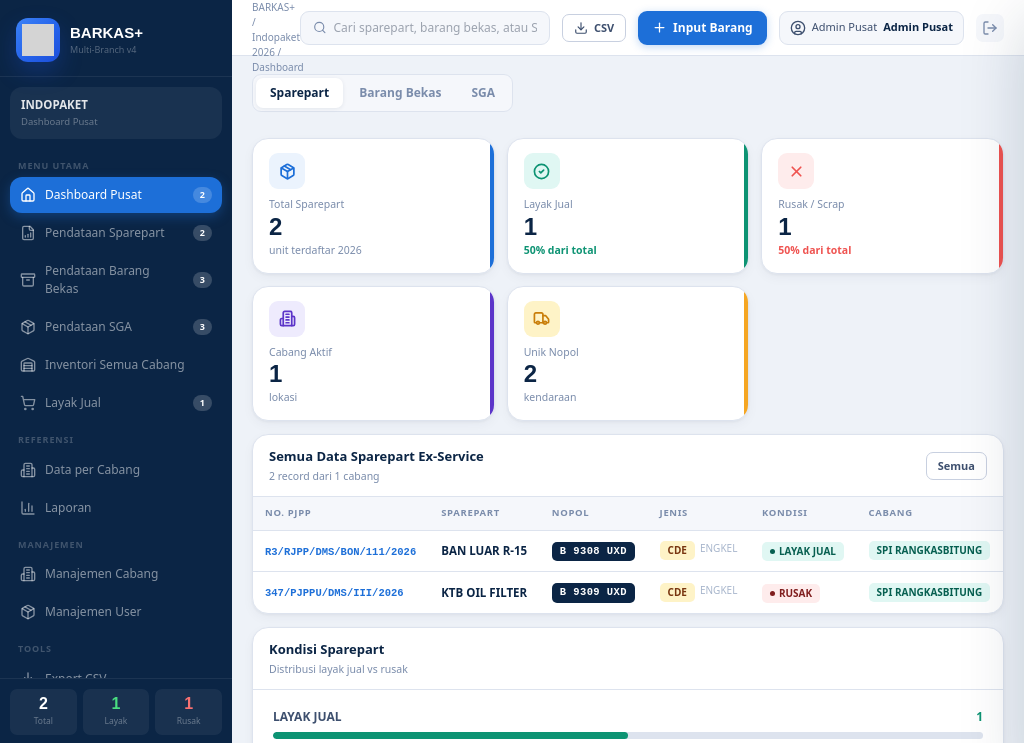
Test: BarkasApp v3 UI › opens the input chooser and continues to the used goods modal
Step 1. Click the button "Input Barang" → (702, 28), box [638,10,767,44]
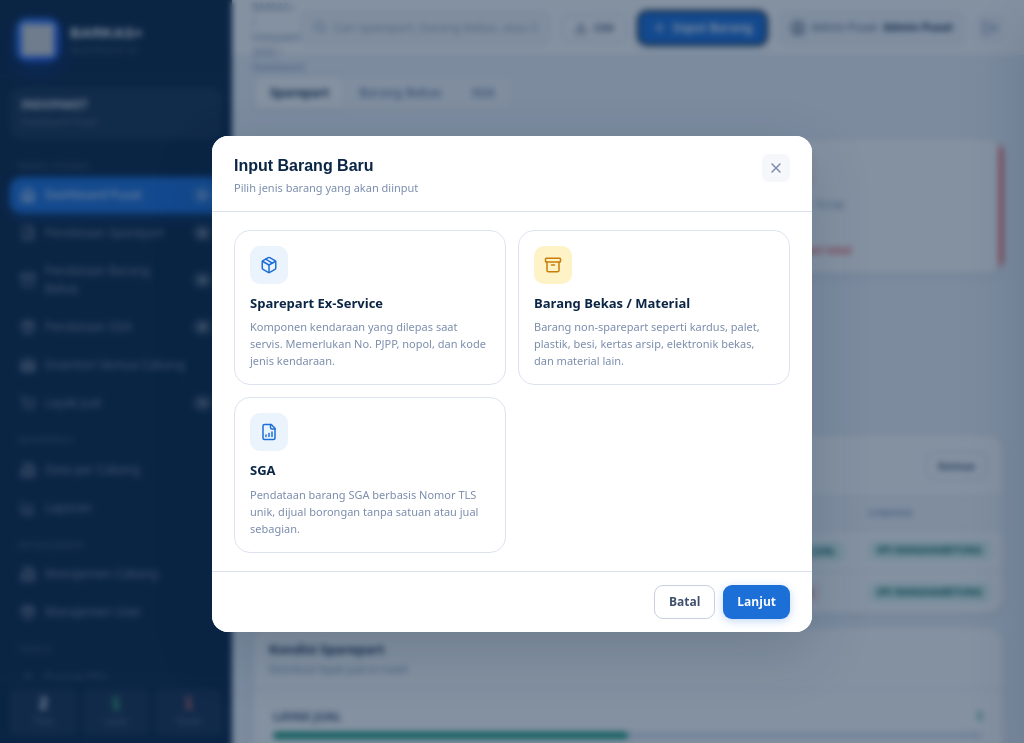
Now the text "Input Barang Baru" is shown, box [234,157,374,174]
Now the button "Lanjut" is disabled, box [723,585,790,619]
Step 2. Click the text "Barang Bekas / Material" → (612, 303), box [534,294,690,312]
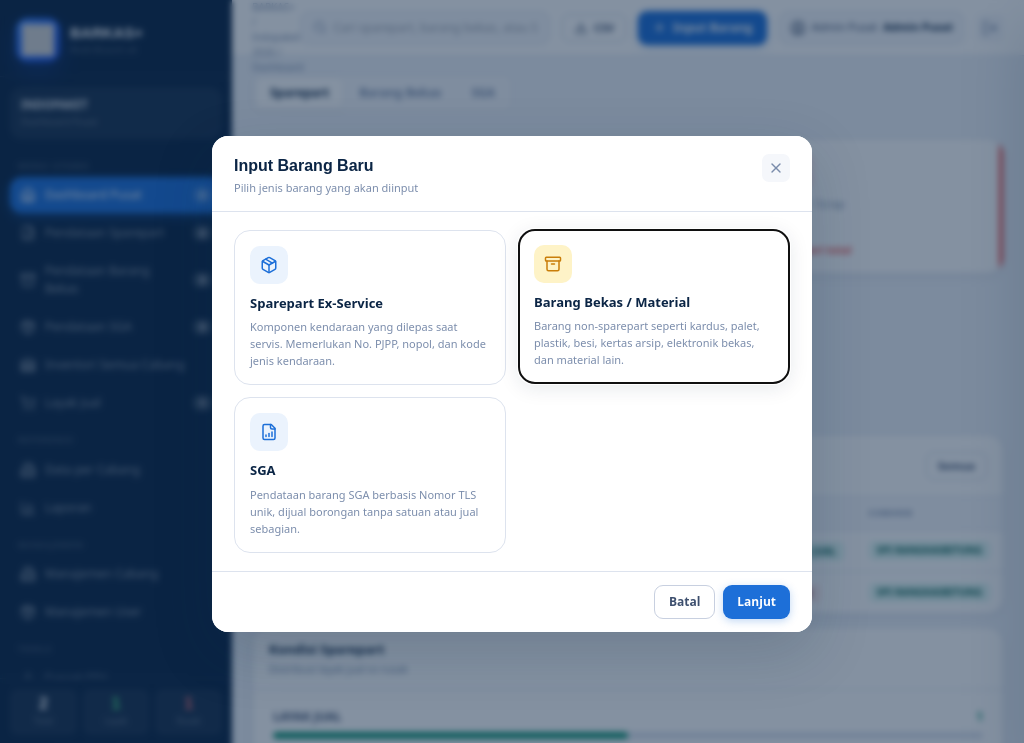
Step 3. Click the button "Lanjut" → (757, 602), box [723,585,790,619]
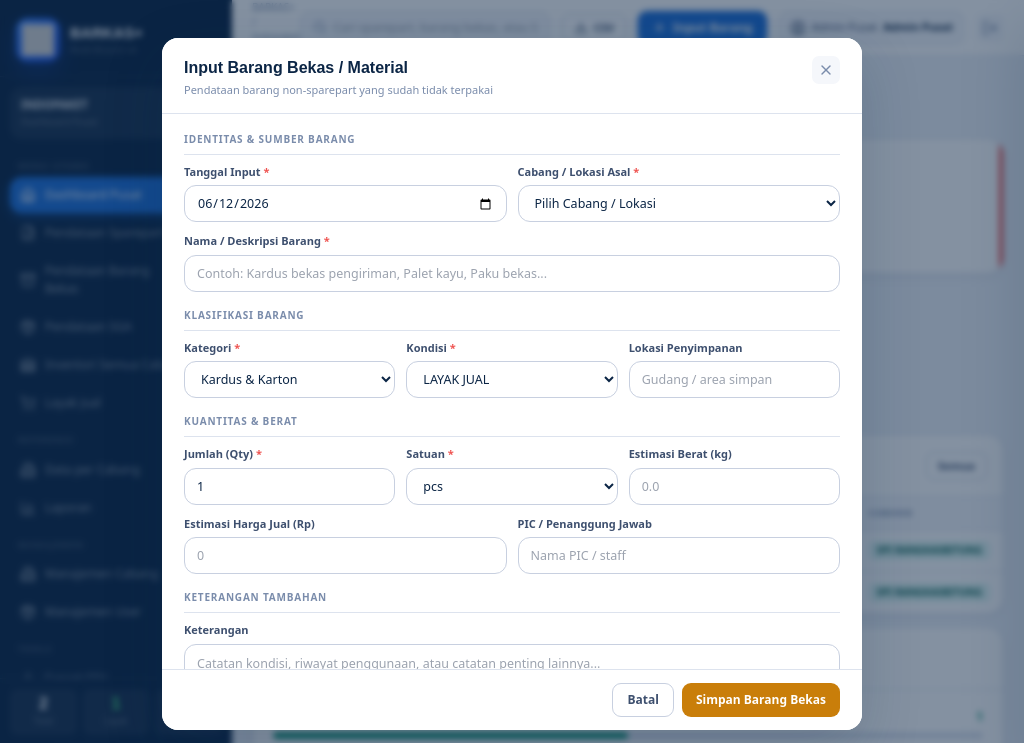
Now the text "Input Barang Bekas / Material" is shown, box [184,59,408,76]
